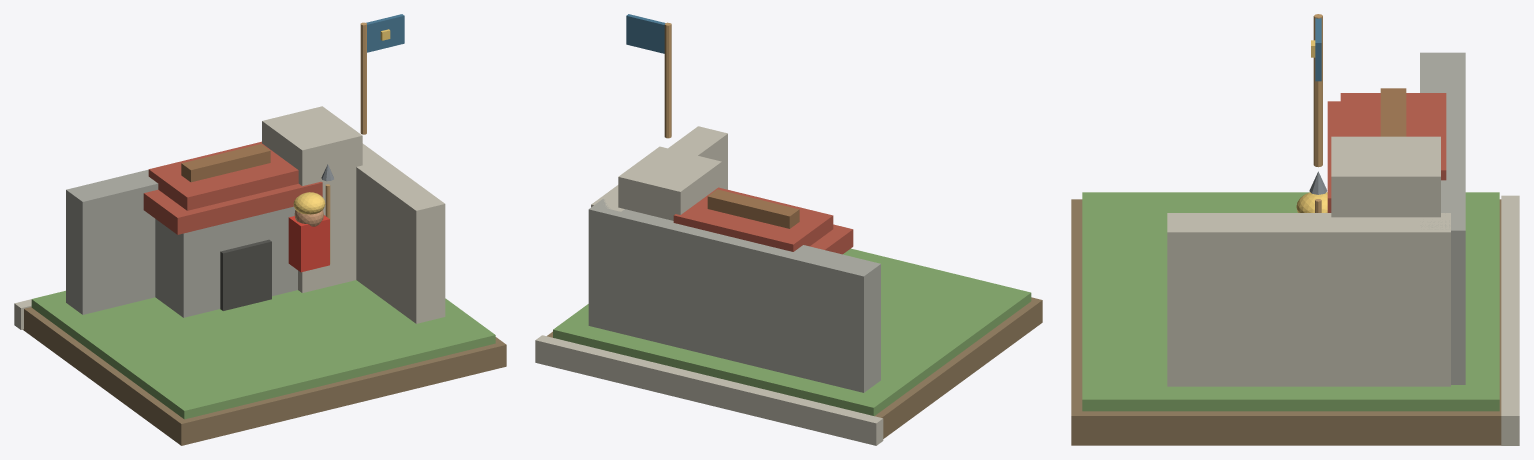
The model's file is 07_O_Quan_DichThanh.glb.
The picture shows the model from 3 angles, left to right: view 1: azimuth 30°, elevation 25°; view 2: azimuth 150°, elevation 25°; view 3: azimuth 270°, elevation 25°; orthographic projection. The views are drawn at different scales.
Visible parts, largest first — view 1: grass, soil, side, rear, tower, gatehouse, roof2, roof, opening, body, ridge, flag (+2 smaller); view 2: rear, grass, border, tower, soil, roof2, ridge, side, flag, pole, roof; view 3: side, grass, soil, tower, rear, border, roof2, ridge, pole, roof, helmet, flag.
Part boxes in pixels (box(x1,y1,x2,y2)): grass: box(31, 280, 495, 419); soil: box(23, 307, 506, 445); side: box(356, 143, 445, 323); rear: box(66, 169, 158, 314); tower: box(262, 106, 362, 292); gatehouse: box(155, 206, 297, 317); roof2: box(148, 141, 298, 210); roof: box(143, 181, 322, 234); opening: box(220, 239, 271, 310); body: box(288, 215, 329, 272); ridge: box(181, 144, 270, 182); flag: box(366, 14, 404, 52); rear: box(588, 199, 880, 392); grass: box(553, 248, 1031, 415); border: box(535, 335, 883, 445); tower: box(618, 146, 721, 220); soil: box(547, 297, 1042, 438); roof2: box(673, 187, 833, 251); ridge: box(707, 189, 799, 228); side: box(591, 126, 727, 211); flag: box(626, 14, 665, 53); pole: box(664, 22, 671, 138); roof: box(810, 224, 853, 254); side: box(1167, 213, 1450, 386); grass: box(1082, 192, 1499, 411); soil: box(1071, 199, 1501, 445); tower: box(1331, 136, 1440, 217); rear: box(1420, 52, 1465, 384); border: box(1501, 195, 1519, 445); roof2: box(1340, 93, 1446, 180); ridge: box(1380, 88, 1406, 136); pole: box(1313, 14, 1322, 167); roof: box(1327, 101, 1340, 212); helmet: box(1296, 192, 1327, 212); flag: box(1315, 18, 1321, 81).
Size of the model in its own units: 2.85 by 2.38 by 2.45.
